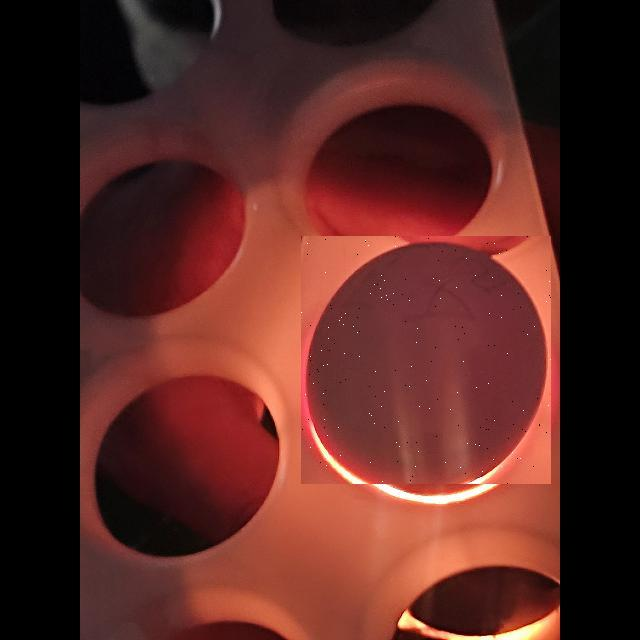Fertile: (301, 236, 551, 484)
